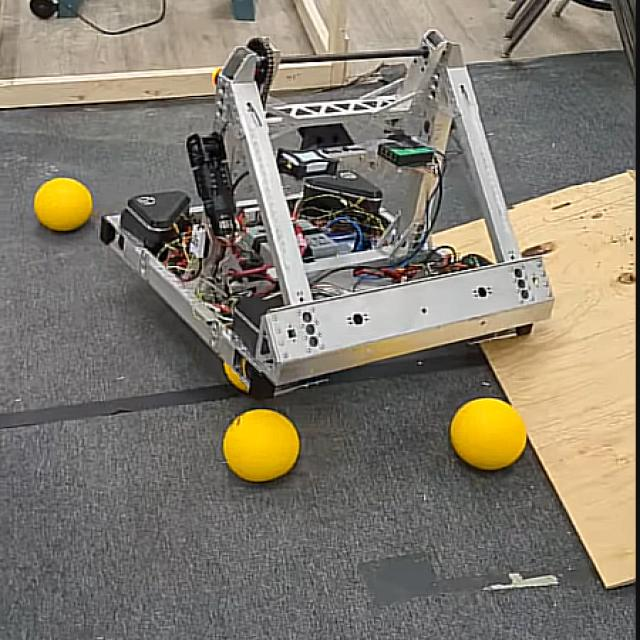Fuel: (222, 408, 298, 482), (449, 397, 526, 470), (448, 398, 526, 470), (223, 409, 299, 482), (33, 177, 93, 232), (34, 178, 91, 231), (221, 358, 250, 392), (224, 363, 248, 392)
